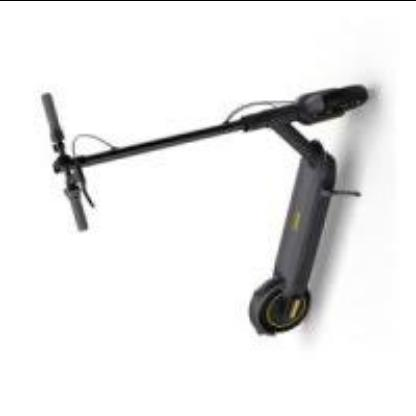bike: (42, 84, 371, 336)
